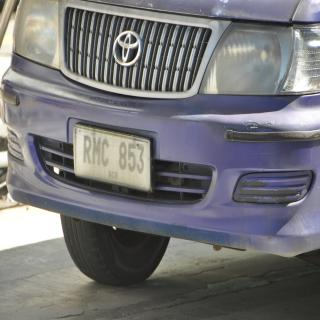license: (74, 125, 154, 193)
